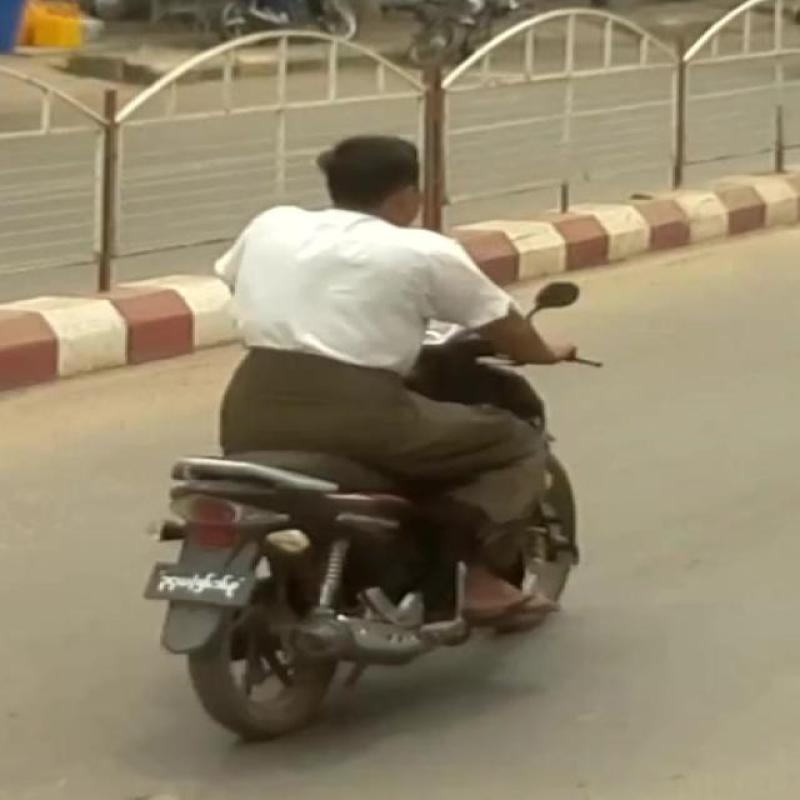nohelmet: (301, 128, 474, 251)
